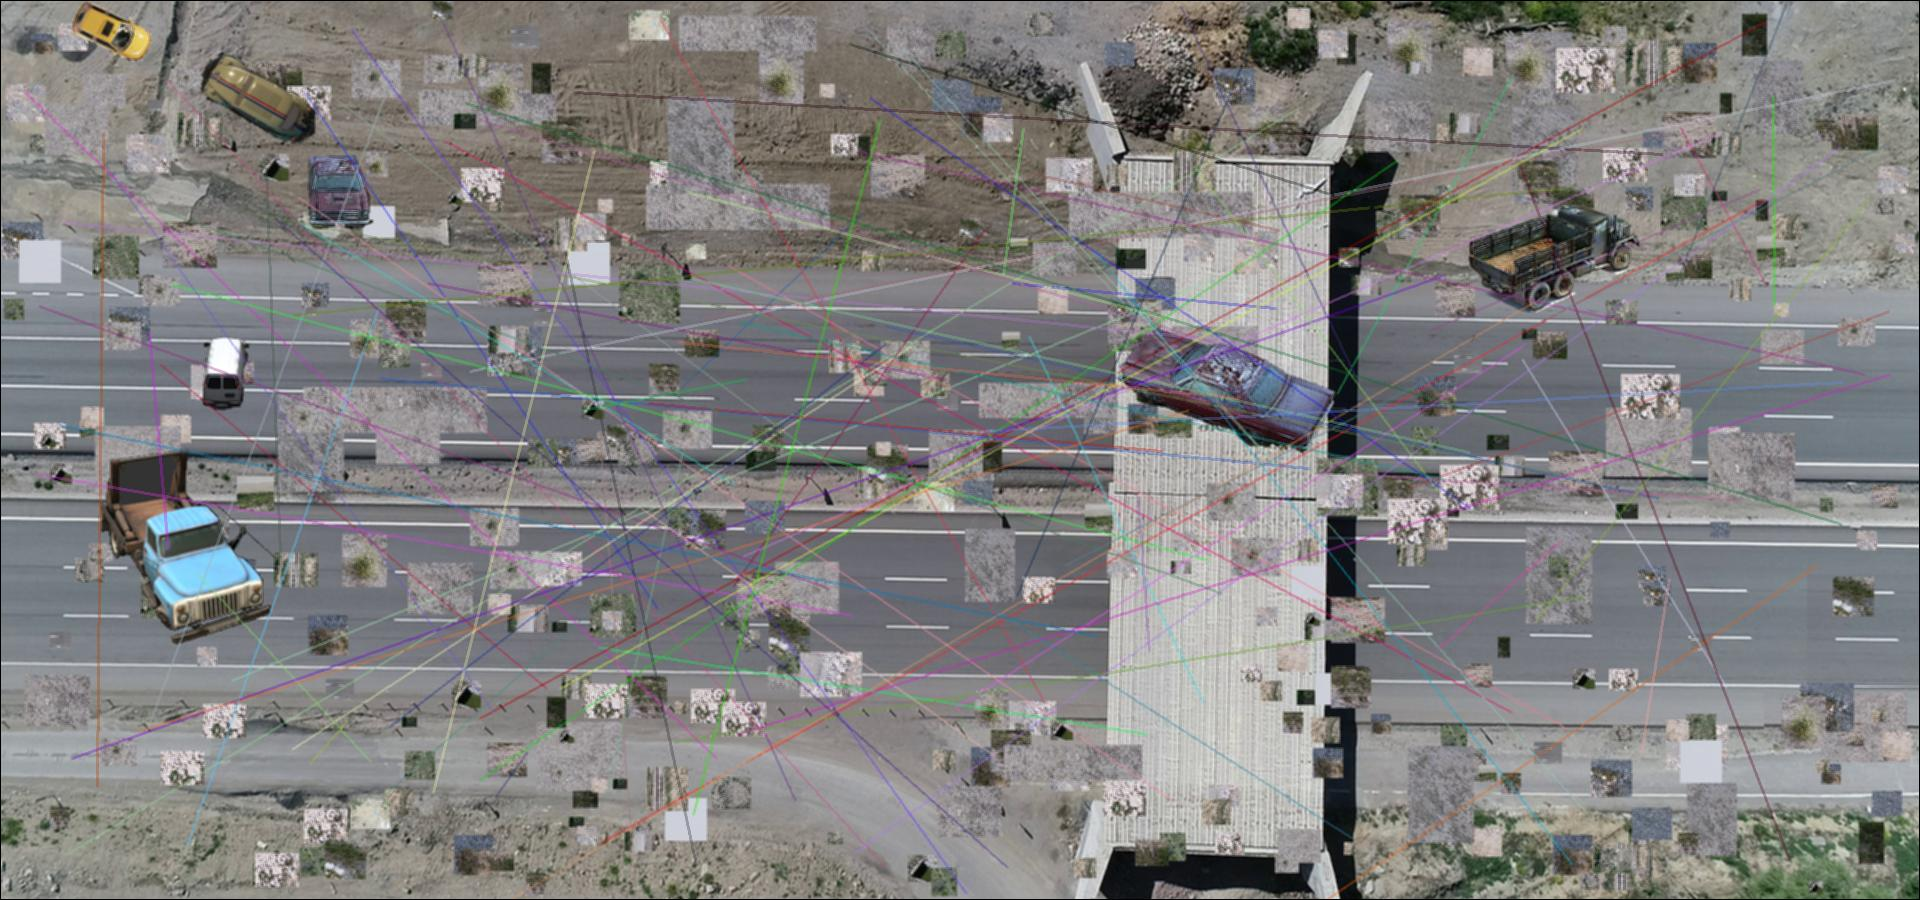arac: (100, 444, 276, 645), (1117, 321, 1338, 453), (1464, 200, 1640, 312), (200, 53, 315, 144), (302, 152, 373, 231), (70, 2, 153, 61), (200, 336, 249, 410)
